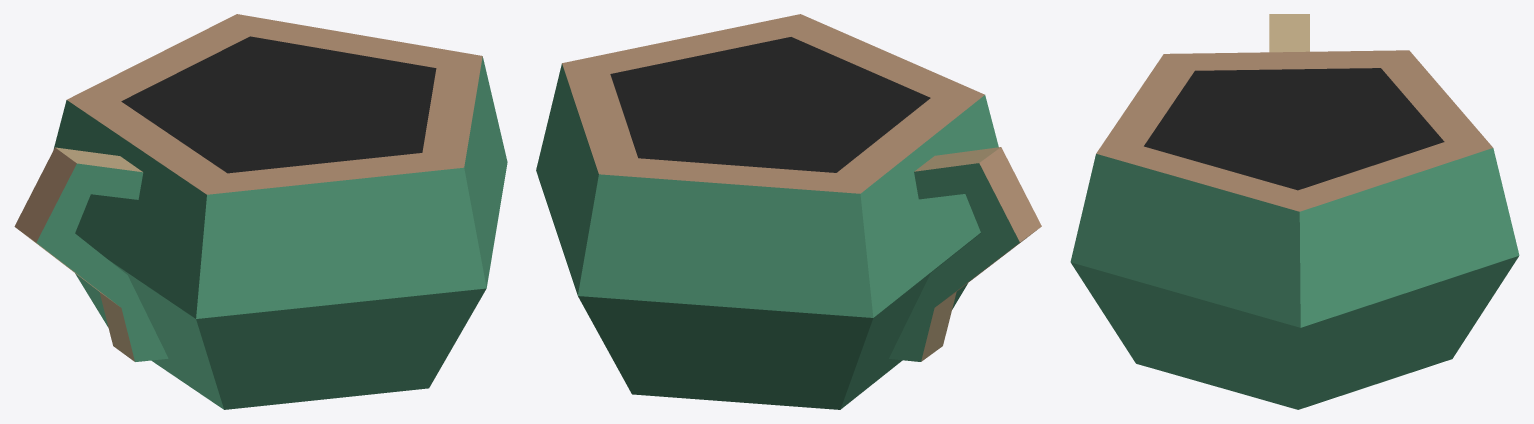
File: TB_D_Prop_Jar_U.FBX
The picture shows the model from 3 angles, left to right: view 1: azimuth 30°, elevation 25°; view 2: azimuth 150°, elevation 25°; view 3: azimuth 270°, elevation 25°; orthographic projection. The views are drawn at different scales.
Parts seen in each view (by area): view 1: TB_D_Prop_Jar_U; view 2: TB_D_Prop_Jar_U; view 3: TB_D_Prop_Jar_U.
Part boxes in pixels (bbox=[...]): TB_D_Prop_Jar_U: bbox=[14, 14, 507, 409]; TB_D_Prop_Jar_U: bbox=[536, 14, 1041, 409]; TB_D_Prop_Jar_U: bbox=[1070, 14, 1519, 409].
Bounding box in the file's own units: 0.9734 × 0.4585 × 0.8366.
